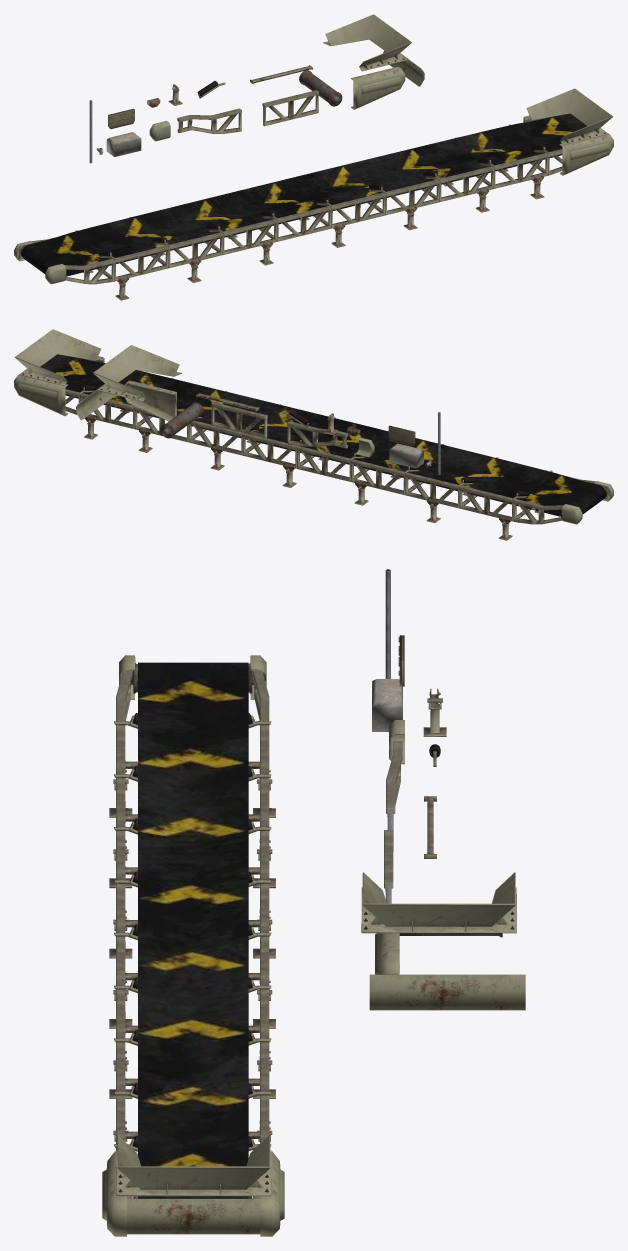
3 views of the same model, one above another, from view 1: azimuth 30°, elevation 25°; view 2: azimuth 150°, elevation 25°; view 3: azimuth 270°, elevation 25° (orthographic). The views are drawn at different scales.
Parts seen in each view (by area): view 1: Conveyor_Belt, Conveyor_Funnel_low1, Conveyor_Funnel_Top, Conveyor_Funnel_Side, Conveyor_Funnel_Side_low1, Conveyor_End_low1, Conveyor_Side, Conveyor_Side_low4, Conveyor_End, Conveyor_Side_low2, Conveyor_Side_low7, Conveyor_Side_low5 (+9 smaller); view 2: Conveyor_Belt, Conveyor_Funnel_low1, Conveyor_Funnel_Top, Conveyor_Funnel_Side_low1, Conveyor_Funnel_Side, Conveyor_End_low1, Conveyor_Side, Conveyor_Side_low4, Conveyor_Side_low3, Conveyor_Side_low5, Conveyor_Side_low2, Conveyor_Side_low1 (+9 smaller); view 3: Conveyor_Belt, Conveyor_Funnel_low1, Conveyor_Funnel_Top, Conveyor_Funnel_Back, Conveyor_Funnel_Back_low1, Conveyor_Funnel_Side_low1, Scaff_ConcreteBlock, Conveyor_End_low1, Conveyor_Funnel_Side, Conveyor_RollerHolder_low1, Conveyor_Side_low5, Conveyor_Side_low7 (+8 smaller).
Boxes of the visible parts, x1=… form: Conveyor_Belt: x1=21, y1=113, x2=586, y2=276; Conveyor_Funnel_low1: x1=524, y1=88, x2=612, y2=145; Conveyor_Funnel_Top: x1=323, y1=14, x2=411, y2=71; Conveyor_Funnel_Side: x1=351, y1=66, x2=405, y2=109; Conveyor_Funnel_Side_low1: x1=523, y1=117, x2=613, y2=175; Conveyor_End_low1: x1=18, y1=117, x2=562, y2=284; Conveyor_Side: x1=262, y1=90, x2=318, y2=126; Conveyor_Side_low4: x1=277, y1=206, x2=331, y2=241; Conveyor_End: x1=177, y1=108, x2=241, y2=133; Conveyor_Side_low2: x1=168, y1=232, x2=223, y2=268; Conveyor_Side_low7: x1=439, y1=166, x2=494, y2=201; Conveyor_Side_low5: x1=331, y1=192, x2=385, y2=228; Conveyor_Belt: x1=40, y1=354, x2=606, y2=516; Conveyor_Funnel_low1: x1=14, y1=329, x2=103, y2=386; Conveyor_Funnel_Top: x1=93, y1=345, x2=181, y2=401; Conveyor_Funnel_Side_low1: x1=14, y1=358, x2=104, y2=416; Conveyor_Funnel_Side: x1=124, y1=380, x2=176, y2=421; Conveyor_End_low1: x1=65, y1=359, x2=609, y2=524; Conveyor_Side: x1=211, y1=402, x2=267, y2=438; Conveyor_Side_low4: x1=296, y1=446, x2=350, y2=481; Conveyor_Side_low3: x1=350, y1=459, x2=405, y2=494; Conveyor_Side_low5: x1=242, y1=433, x2=296, y2=468; Conveyor_Side_low2: x1=405, y1=472, x2=459, y2=508; Conveyor_Side_low1: x1=459, y1=486, x2=513, y2=521; Conveyor_Belt: x1=138, y1=662, x2=248, y2=1198; Conveyor_Funnel_low1: x1=116, y1=1135, x2=271, y2=1196; Conveyor_Funnel_Top: x1=361, y1=872, x2=516, y2=933; Conveyor_Funnel_Back: x1=369, y1=974, x2=525, y2=1010; Conveyor_Funnel_Back_low1: x1=127, y1=1198, x2=260, y2=1234; Conveyor_Funnel_Side_low1: x1=102, y1=1151, x2=284, y2=1236; Scaff_ConcreteBlock: x1=372, y1=679, x2=402, y2=731; Conveyor_End_low1: x1=116, y1=670, x2=269, y2=1199; Conveyor_Funnel_Side: x1=375, y1=933, x2=399, y2=974; Conveyor_RollerHolder_low1: x1=114, y1=713, x2=271, y2=834; Conveyor_Side_low5: x1=116, y1=936, x2=269, y2=985; Conveyor_Side_low7: x1=116, y1=1042, x2=269, y2=1091.
Size of the model in its own units: 2090 by 493 by 680.
Materials: 3 (3 with a texture image).
